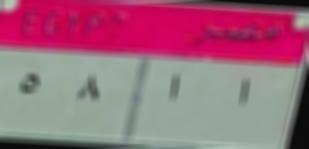5: (13, 71, 43, 96)
8: (72, 73, 107, 105)
alif: (158, 73, 188, 105), (230, 74, 256, 110)
